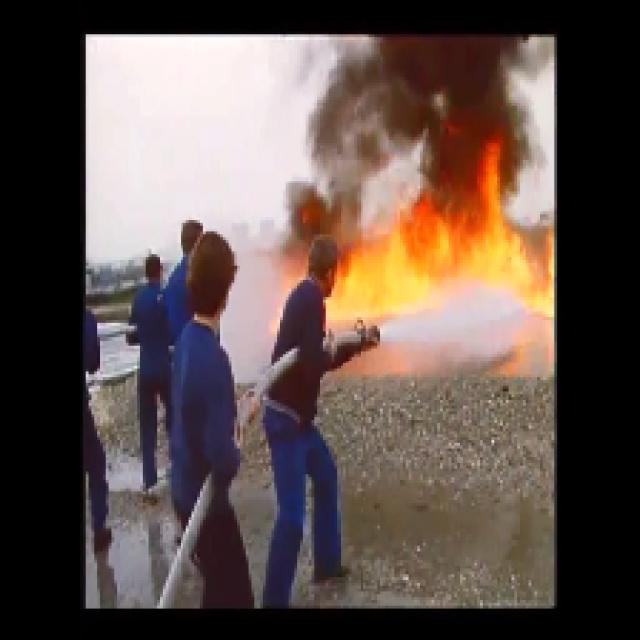fire: (358, 228, 532, 300)
smoke: (363, 40, 516, 146)
